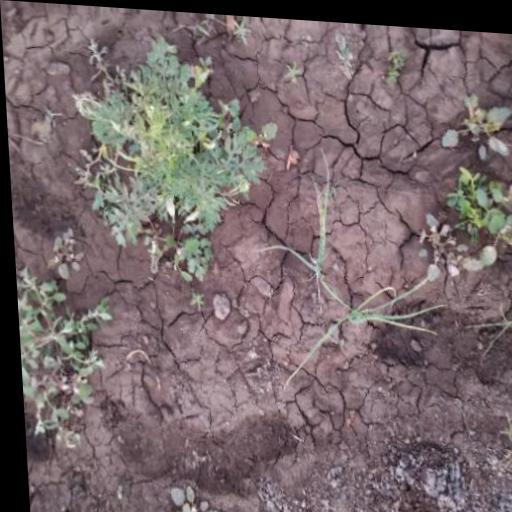weed: (45, 34, 284, 281), (401, 71, 512, 291), (12, 268, 114, 449), (145, 481, 220, 512)
